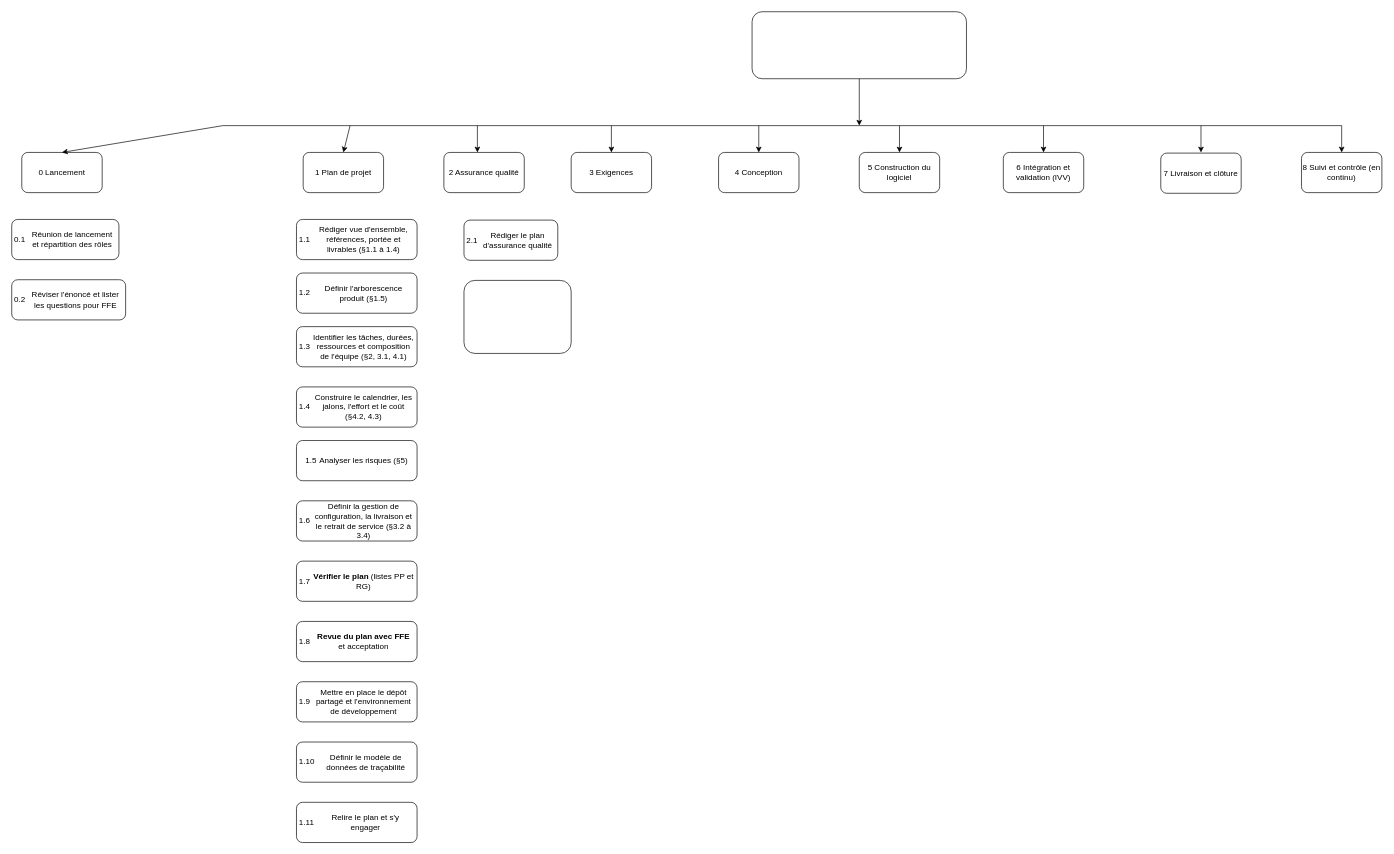
Some shapes in this 1394 by 854 pixel diagram are drawn without their labels. Here are the shapes that lost their labels. From the top down, the centre of each, then its label:
pixel 858 45: Logiciel du cuiseur de riz
pixel 517 316: 2.2 Planifier les vérifications et adapter les listes RG, EX, AC, CC, PT, PP
